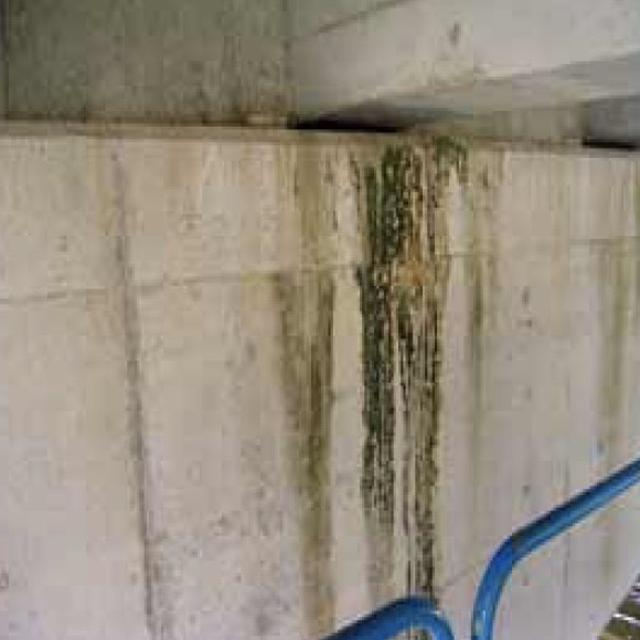leakage: (338, 128, 462, 578)
